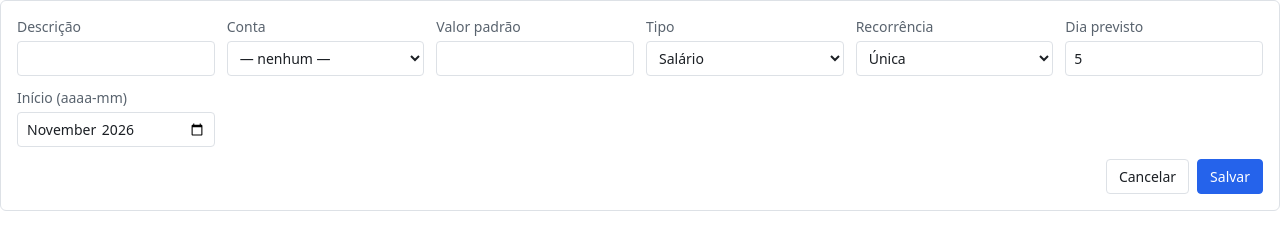
Test: RecurrenceRuleForm › RF-23: a one-off income starts as ONCE in the period and hides the end
The width and height of the screenshot is (1280, 228).
Expected: the field labelled "Fim (opcional)" is not shown
Select "A cada N meses" in the dropdown labelled "Recorrência" at (955,58), box x1=856 y1=41 x2=1053 y2=76
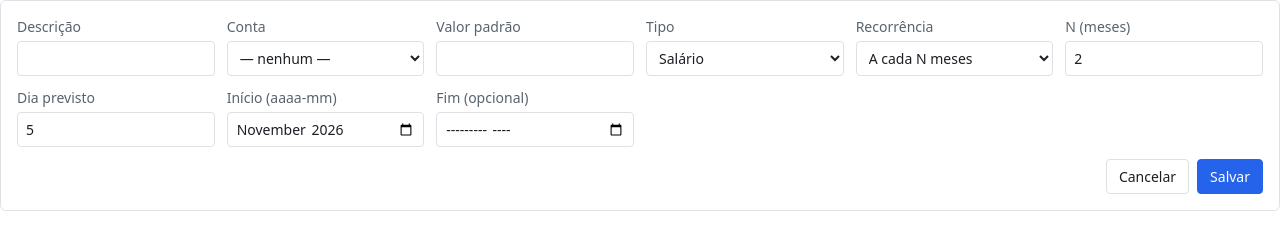
Expected: the number field labelled "N (meses)" holds "2", x1=1065 y1=41 x2=1263 y2=76
